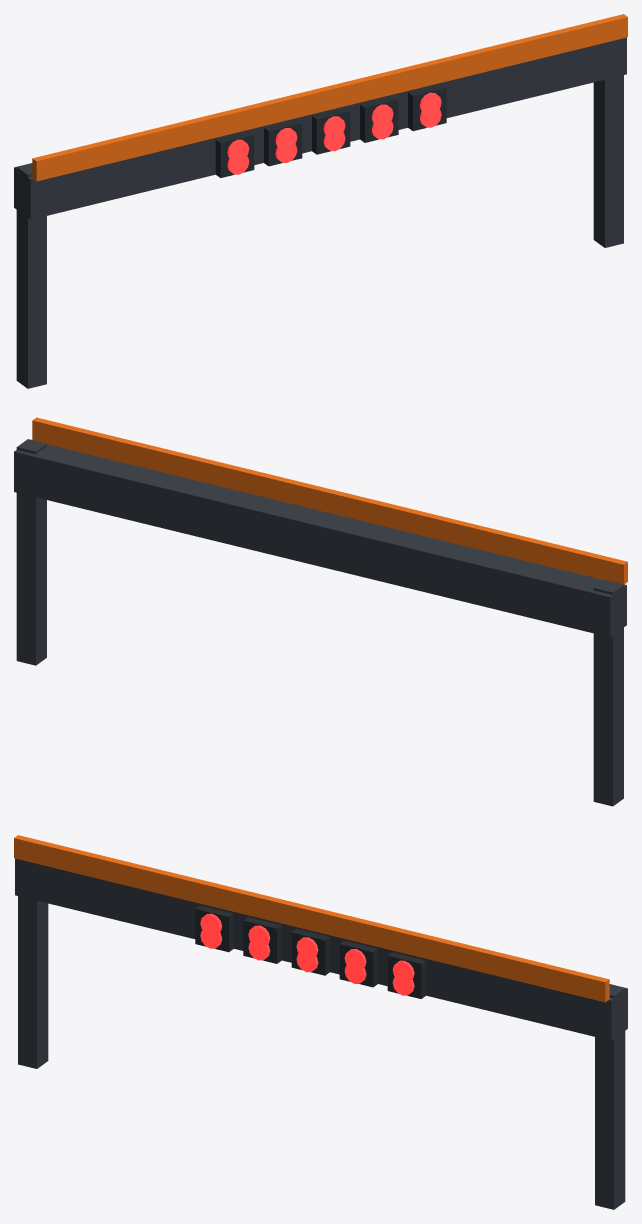
File: start_gantry.glb
The picture shows the model from 3 angles, top to bottom: view 1: azimuth 30°, elevation 25°; view 2: azimuth 150°, elevation 25°; view 3: azimuth 330°, elevation 25°; orthographic projection.
Visible parts, largest first — view 1: Cube.001; view 2: Cube.001; view 3: Cube.001.
Part boxes in pixels (bbox=[...]): Cube.001: bbox=[14, 14, 627, 388]; Cube.001: bbox=[14, 417, 627, 806]; Cube.001: bbox=[14, 835, 627, 1209].
Bounding box in the file's own units: 24.8 × 9.2 × 1.68.
